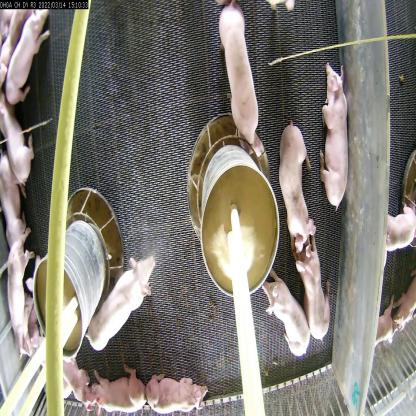Pig: (87, 248, 161, 352), (246, 258, 311, 353), (222, 5, 259, 154), (1, 221, 40, 358), (281, 128, 319, 254), (79, 354, 155, 416), (322, 63, 351, 213), (0, 82, 33, 209), (145, 360, 214, 416), (6, 0, 44, 98), (296, 230, 328, 342), (0, 151, 29, 248)
